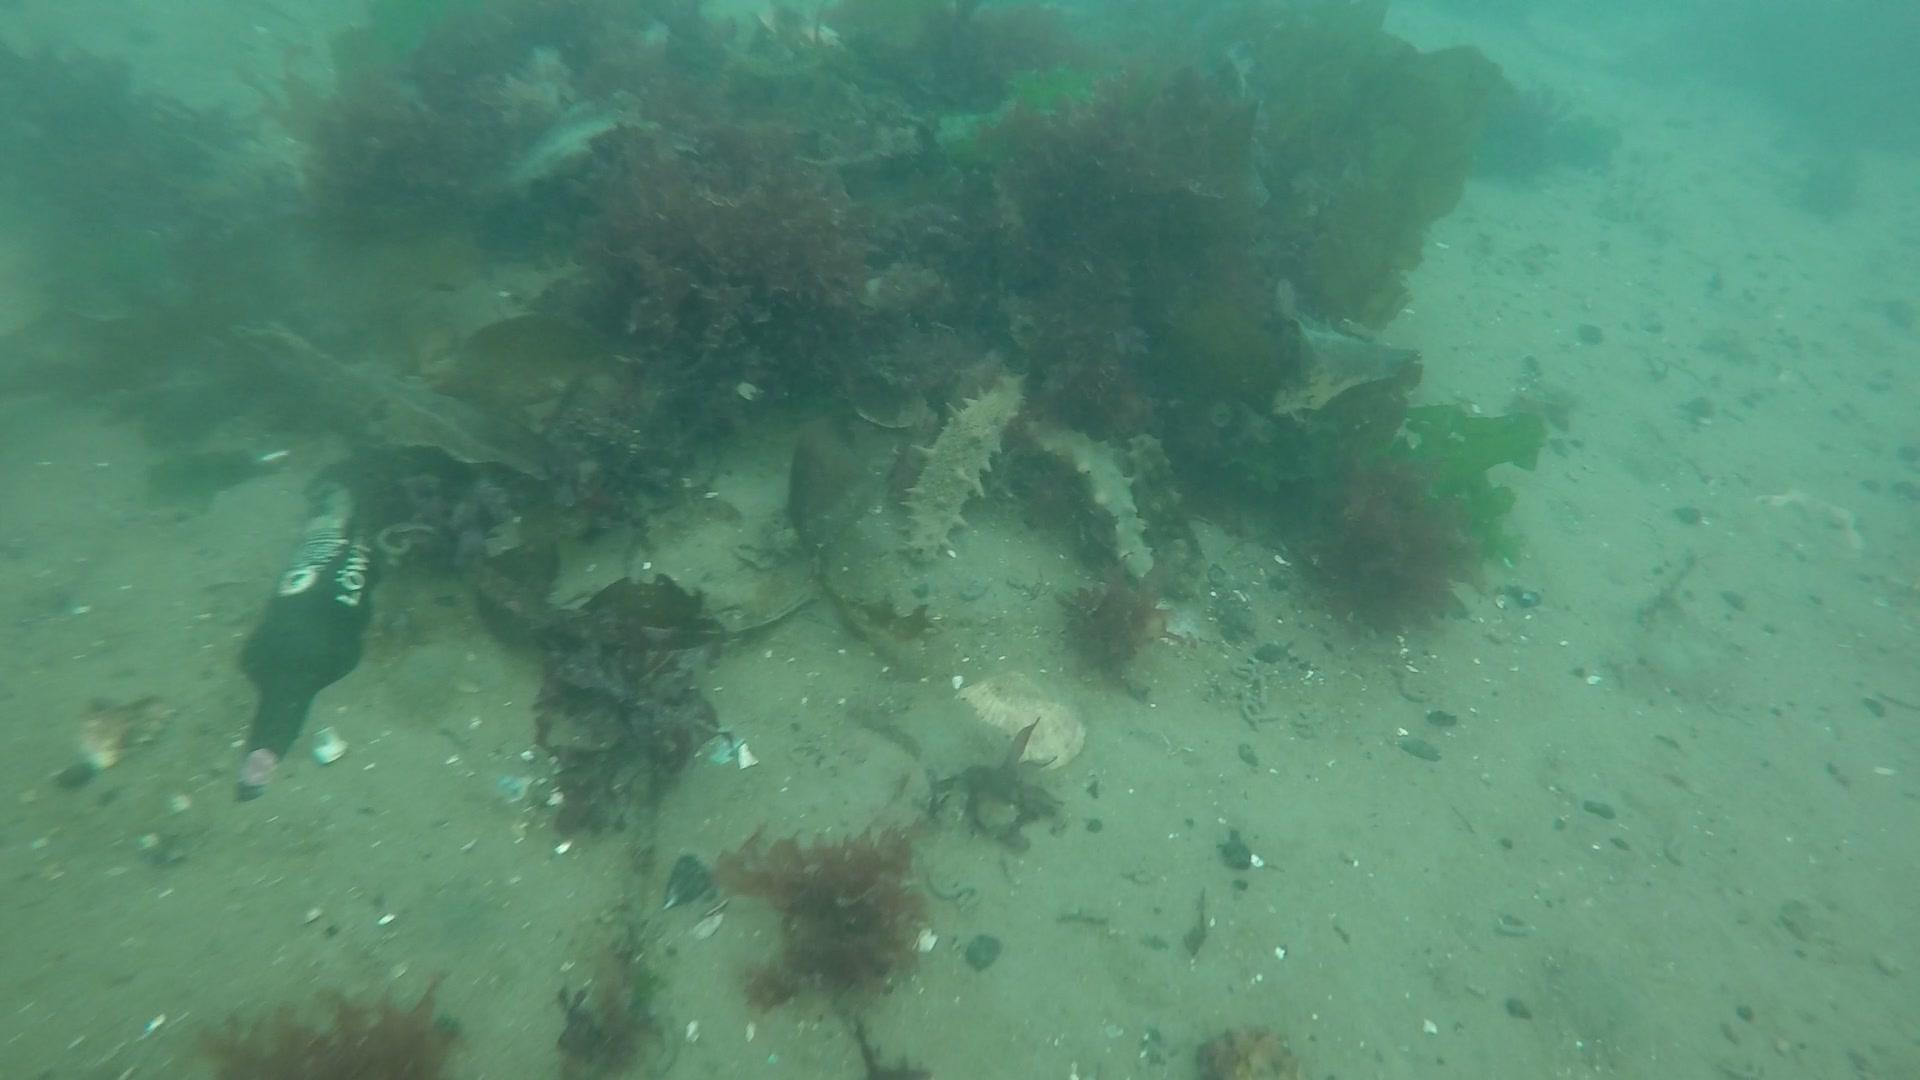holothurian: (895, 372, 1029, 568), (1033, 413, 1156, 587), (1124, 430, 1215, 604)
scallop: (948, 666, 1093, 775)
